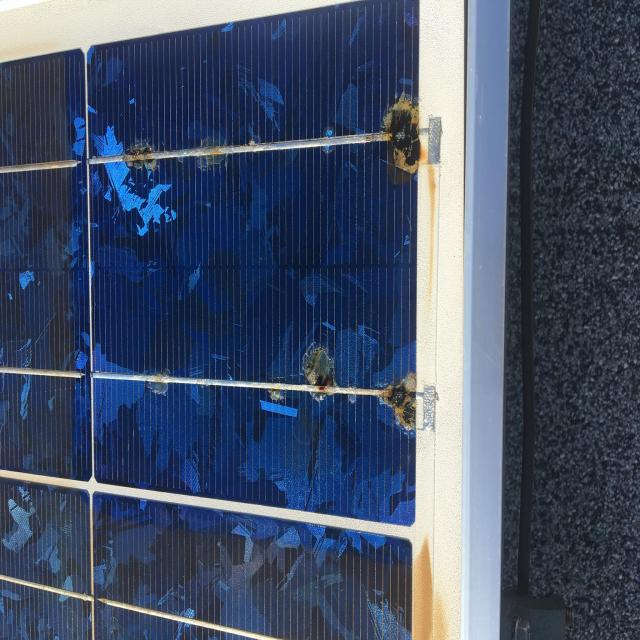electrical damage: (276, 317, 434, 464), (351, 53, 441, 198), (109, 109, 244, 192)
